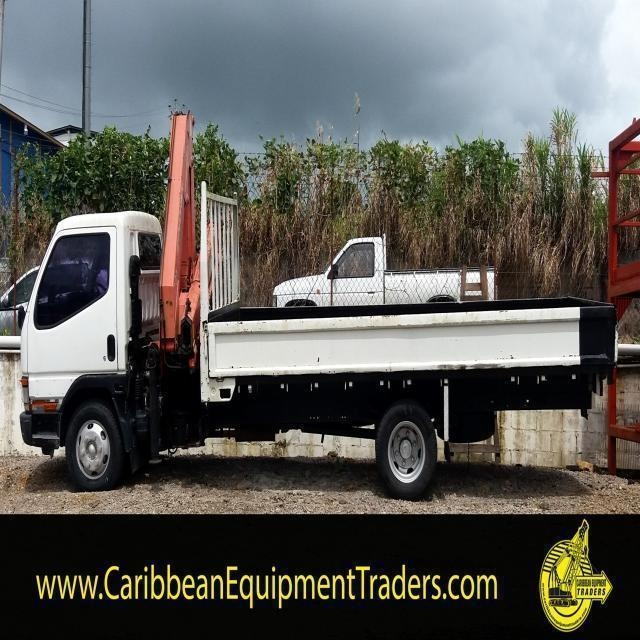Car: (272, 231, 511, 319)
Truck: (20, 109, 620, 489)
